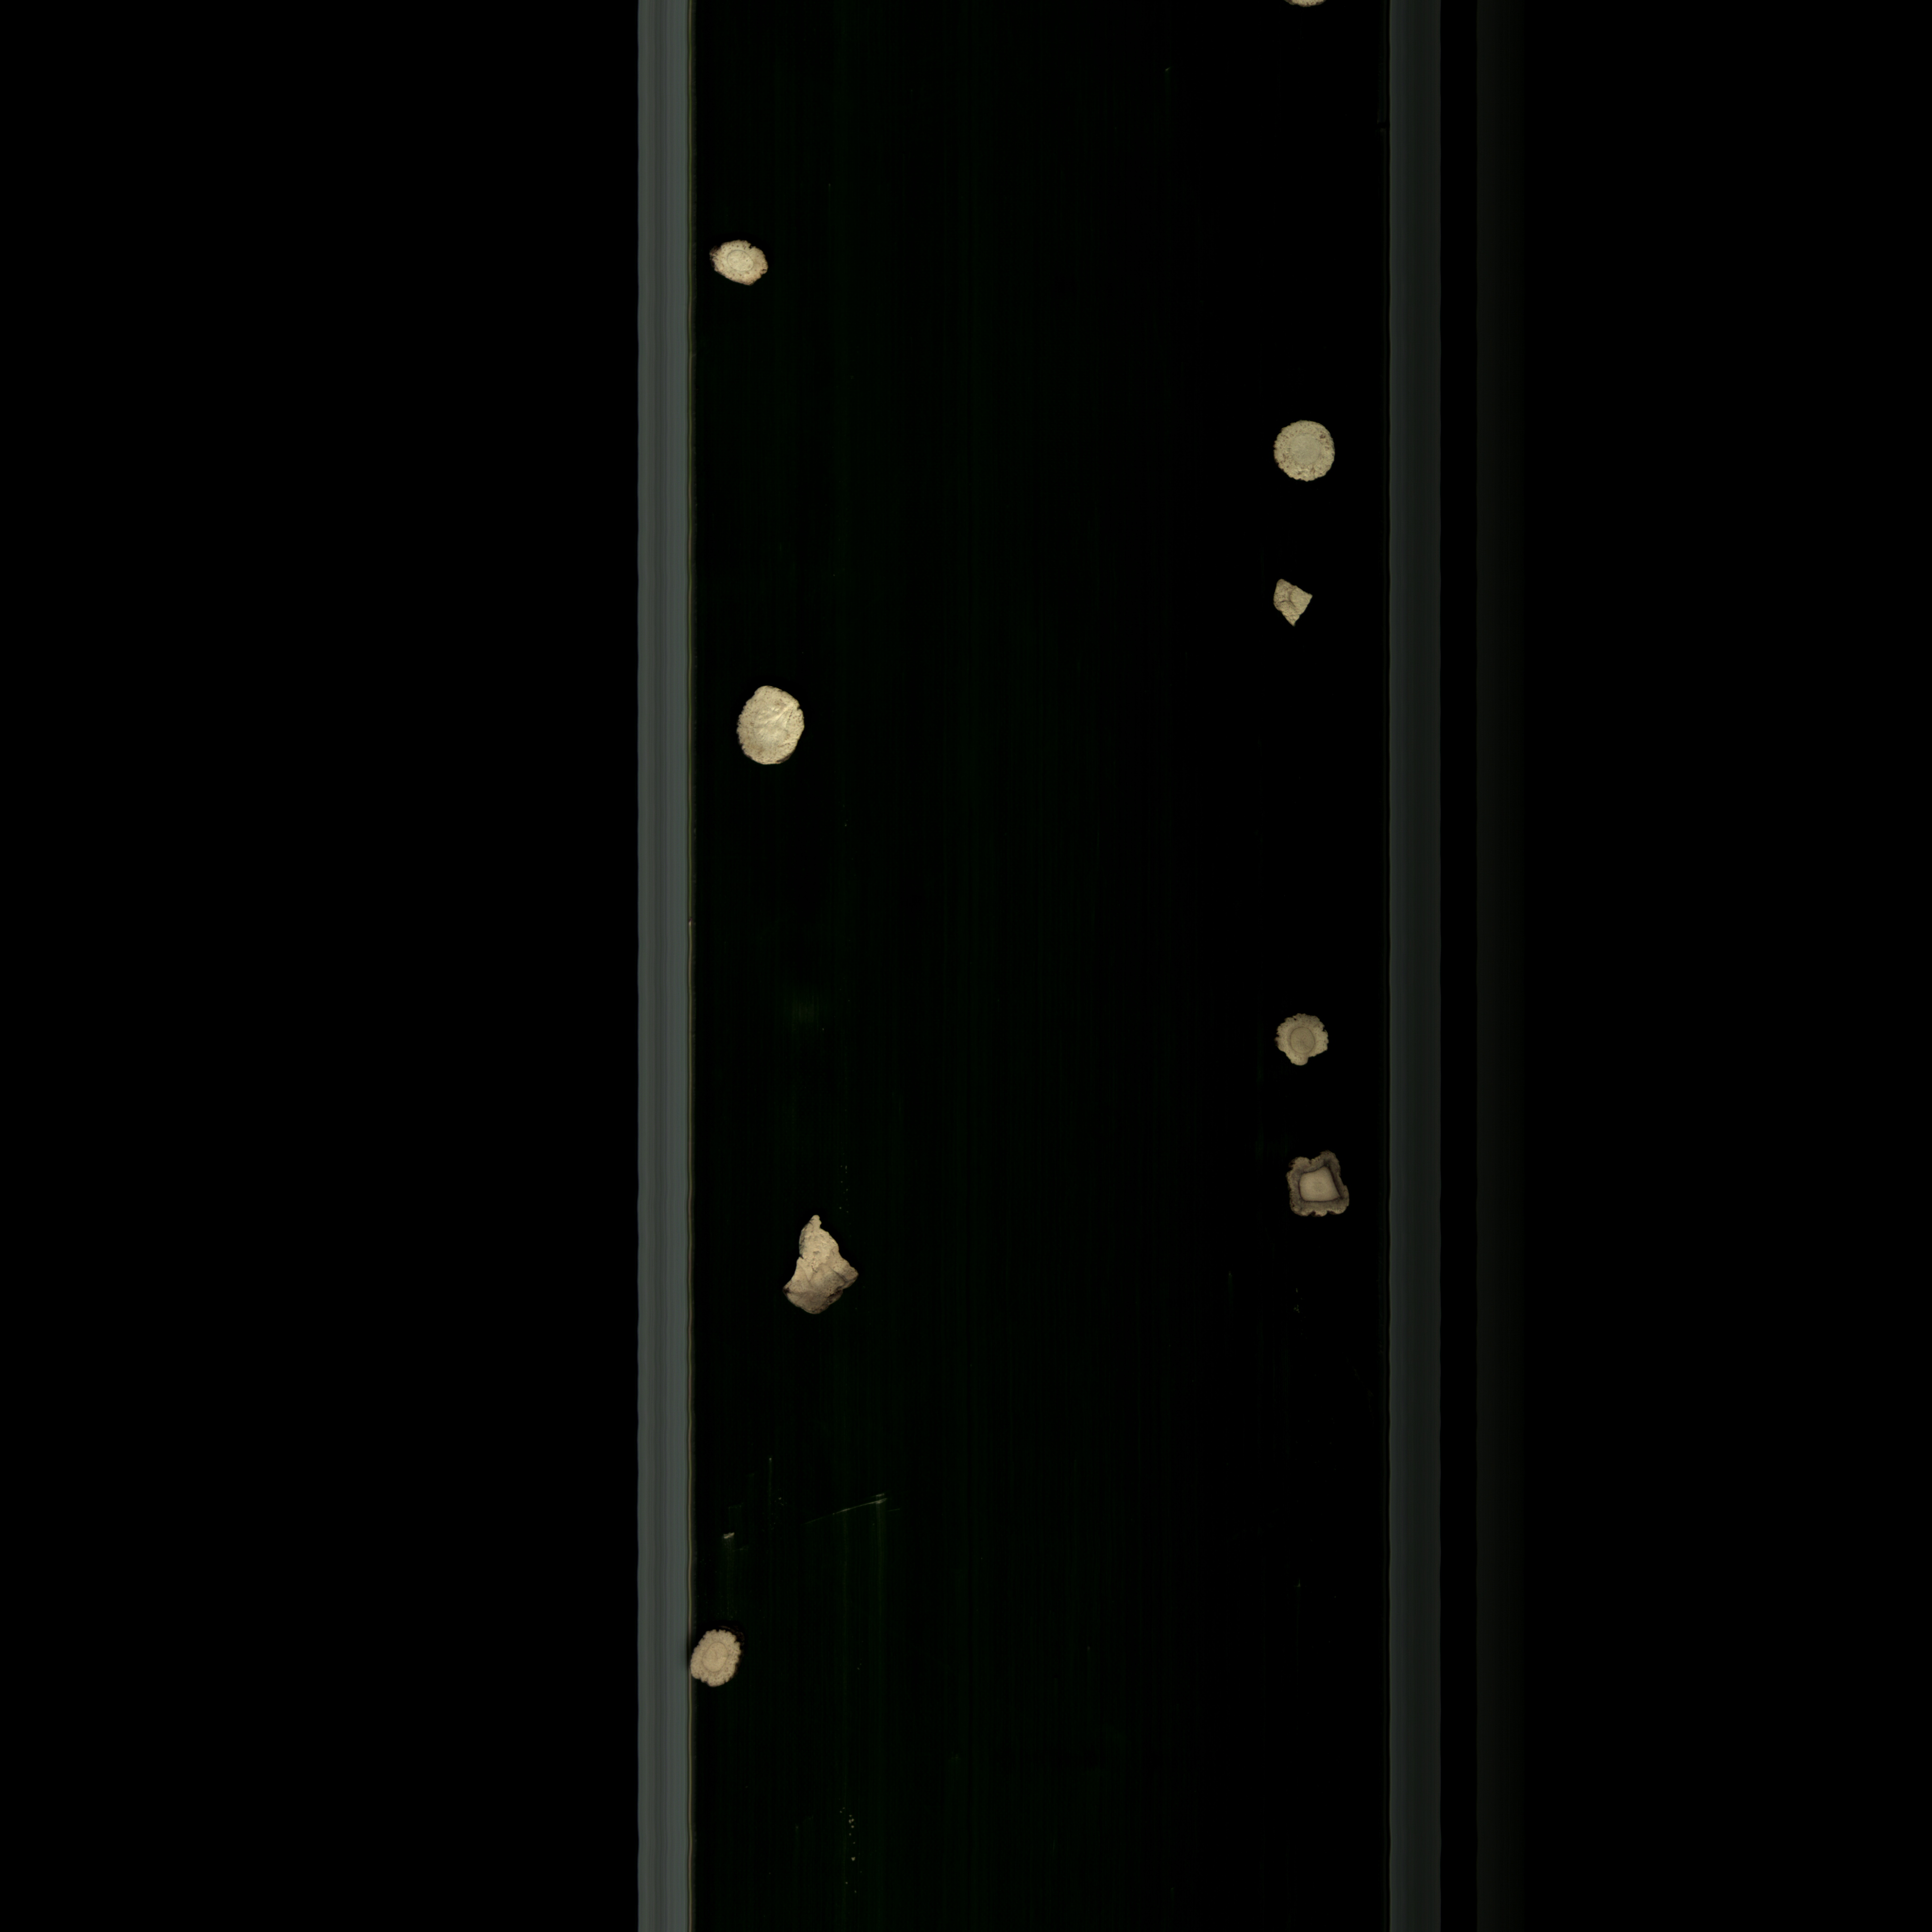debris: (1261, 571, 1316, 642)
distortion: (686, 1614, 754, 1698)
moldy: (766, 1203, 865, 1322), (1274, 1146, 1361, 1231), (1277, 1003, 1343, 1081)
